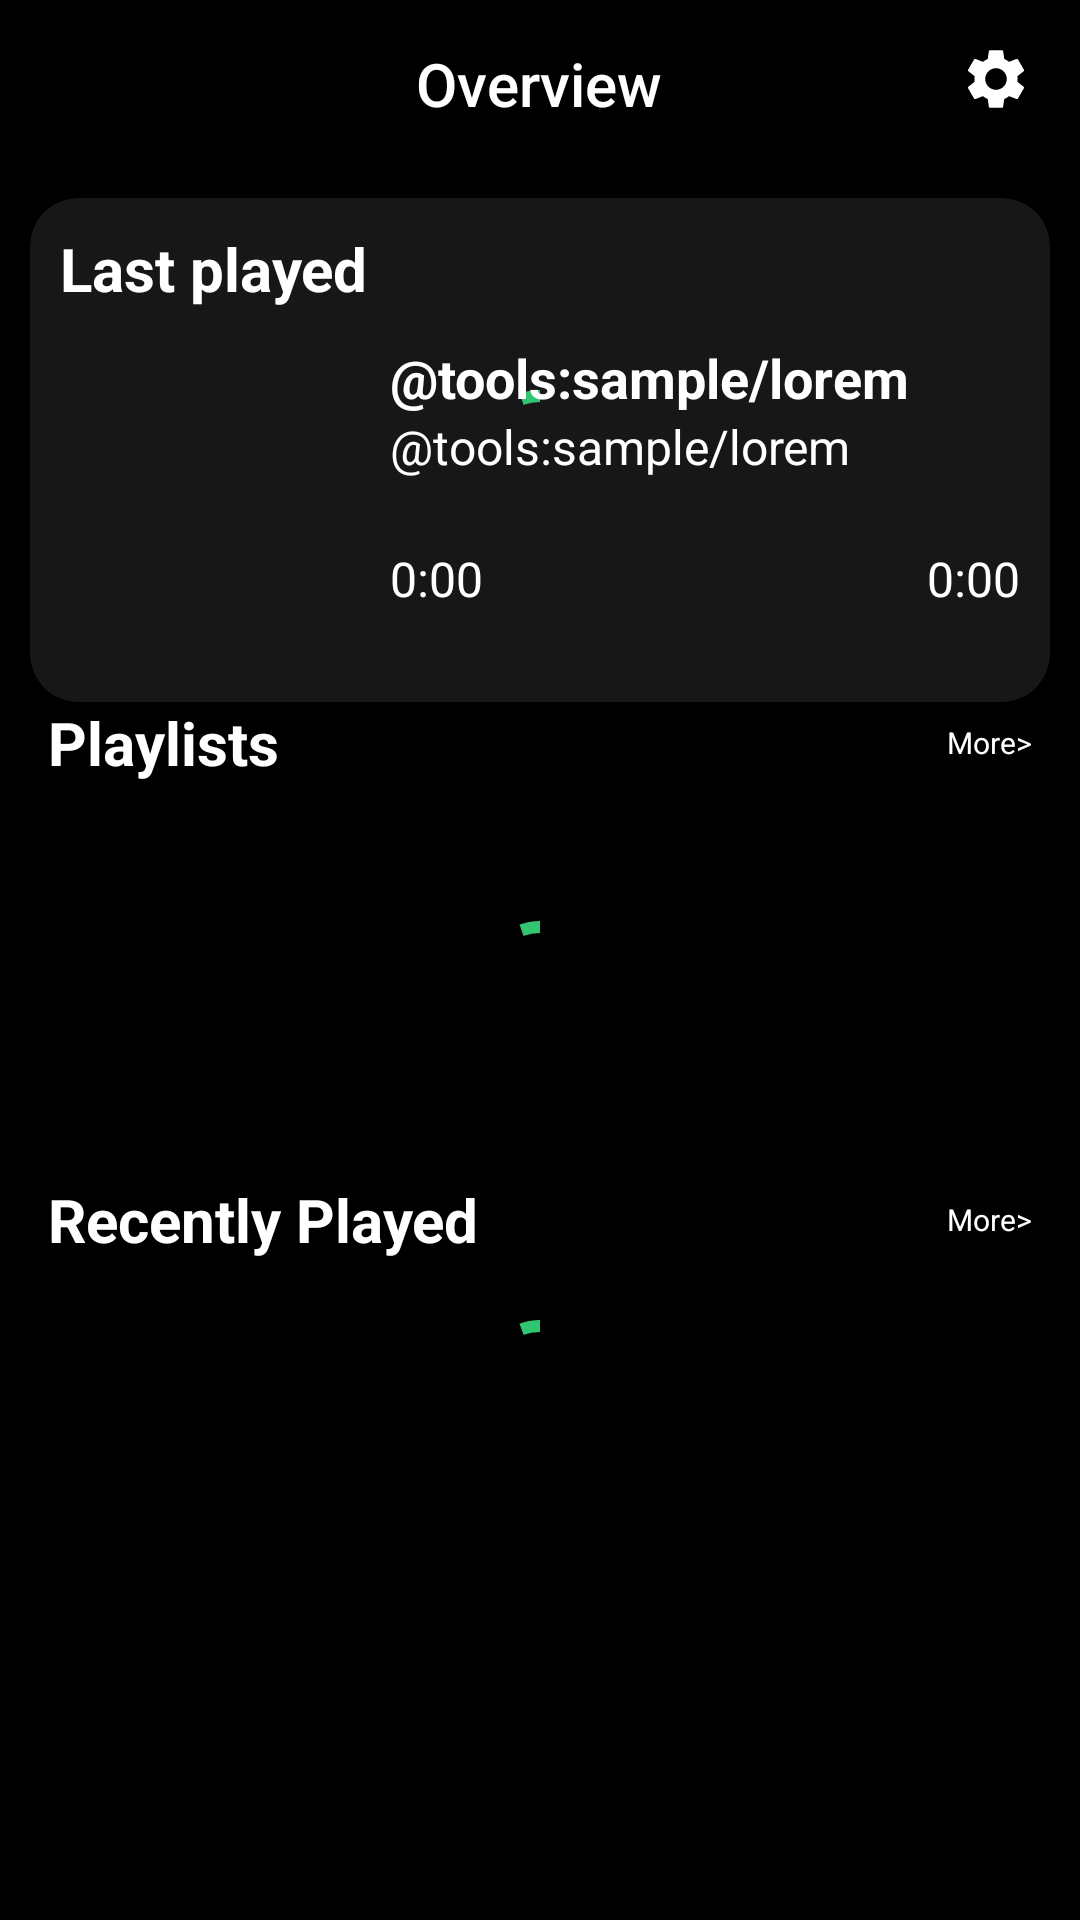

Where to tap for icons on this 1080 × 1920 app screen, as (x=x, y=y):
settings: (x=996, y=79)
